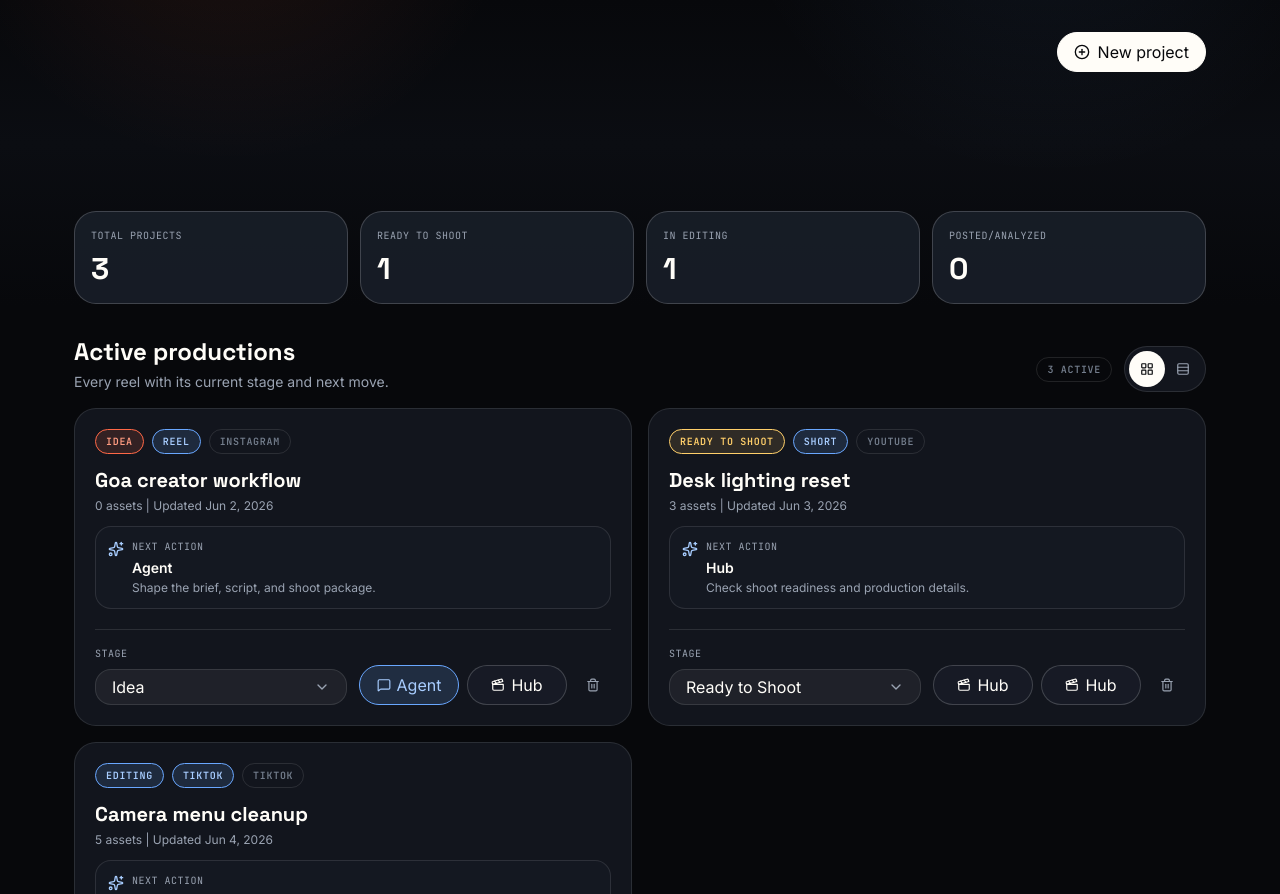
it: HomePageClient › lets projects be deleted from the home project surface
Expected: the text "Goa creator workflow" is shown, [95,467,301,493]
Click the button named "delete goa creator workflow": (593, 685) [575,665,611,705]
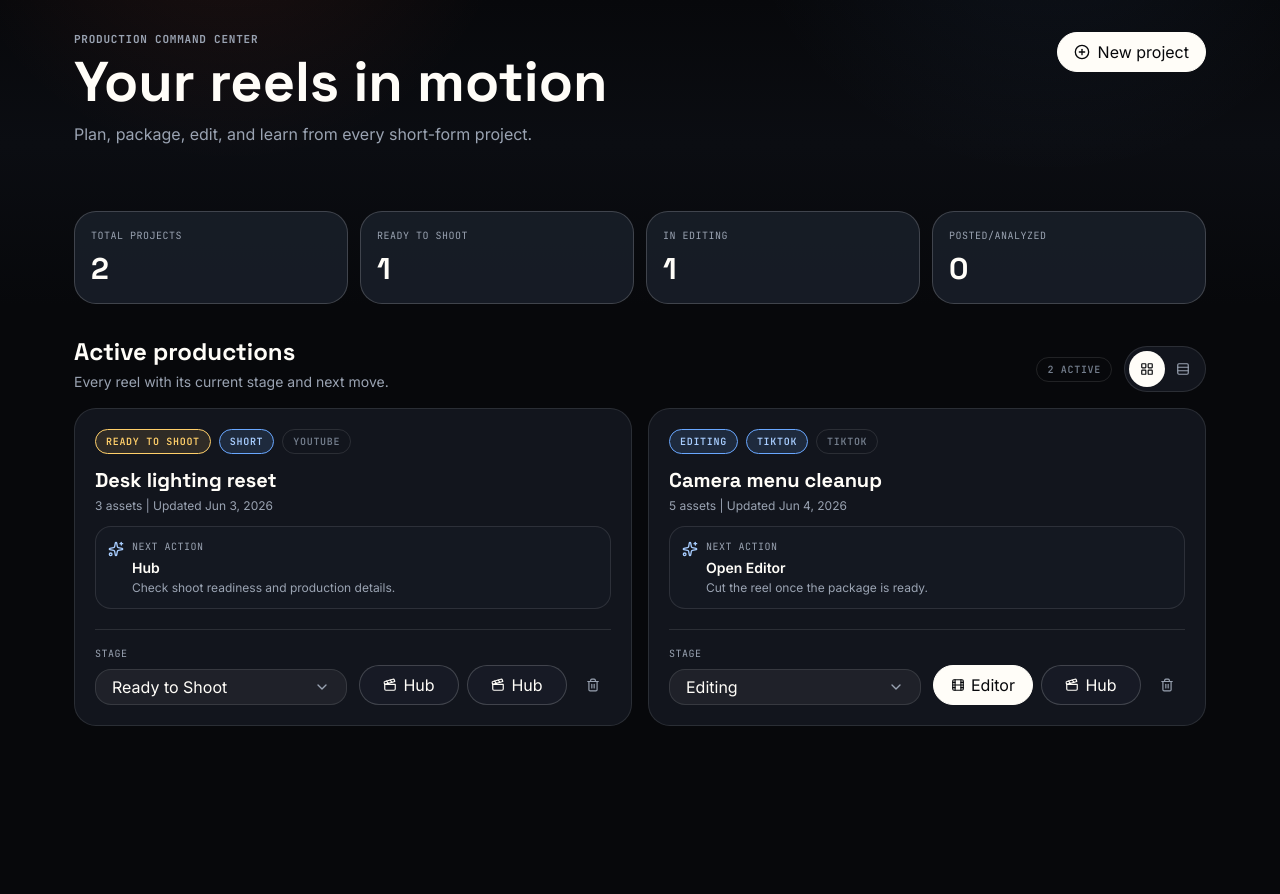
Expected: the heading "Goa creator workflow" is gone
